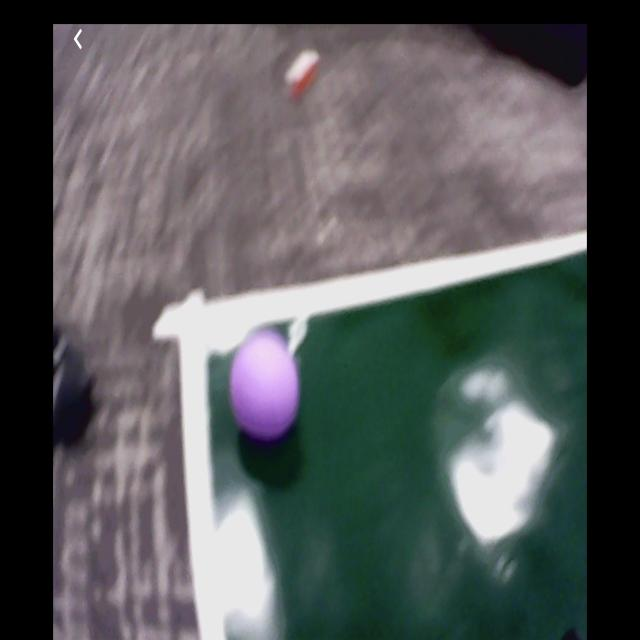ball: (232, 331, 301, 438)
